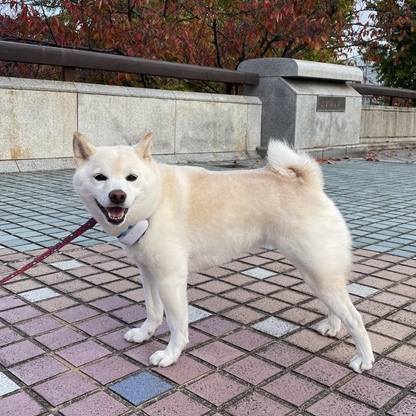shiba: (66, 126, 378, 376)
